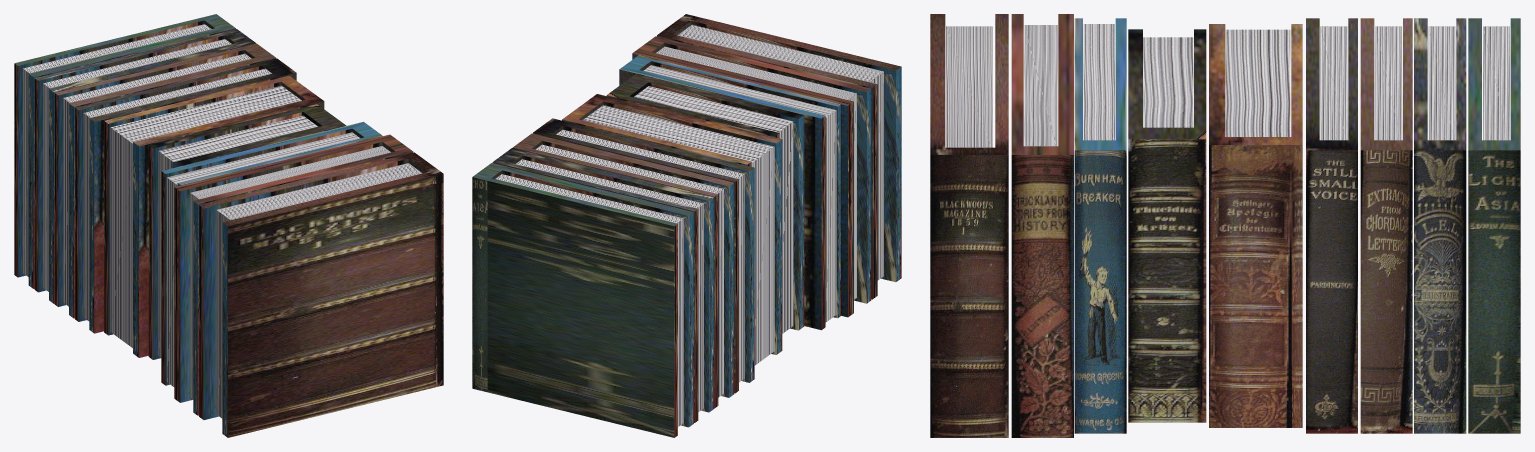
Rendered from Libros7.obj.
3 renders of one model, left to right at view 1: azimuth 30°, elevation 25°; view 2: azimuth 150°, elevation 25°; view 3: azimuth 270°, elevation 25°, orthographic. The views are drawn at different scales.
Visible parts, largest first — view 1: pCube1, pCube2, pCube11, pCube5, pCube6, pCube13, pCube17, pCube15, pCube4, pCube7, pCube3, pCube9 (+6 smaller); view 2: pCube17, pCube2, pCube1, pCube3, pCube11, pCube6, pCube15, pCube13, pCube4, pCube5, pCube10, pCube7 (+6 smaller); view 3: pCube5, pCube1, pCube4, pCube2, pCube13, pCube15, pCube17, pCube6, pCube3, pCube11, pCube7, pCube10 (+6 smaller).
Boxes of the visible parts, x1,y1,x2,y2 form: pCube1: (199, 152, 443, 437); pCube2: (174, 134, 413, 415); pCube11: (110, 85, 301, 347); pCube5: (104, 75, 324, 357); pCube6: (75, 58, 296, 333); pCube13: (54, 43, 276, 318); pCube17: (14, 14, 235, 288); pCube15: (34, 29, 256, 303); pCube4: (148, 104, 346, 359); pCube7: (216, 163, 422, 418); pCube3: (161, 121, 382, 385); pCube9: (167, 132, 359, 386); pCube17: (472, 163, 693, 437); pCube2: (632, 36, 871, 317); pCube1: (657, 14, 901, 299); pCube3: (619, 55, 840, 330); pCube11: (583, 105, 774, 365); pCube6: (533, 118, 754, 393); pCube15: (492, 148, 714, 422); pCube13: (512, 133, 734, 408); pCube4: (606, 74, 804, 330); pCube5: (562, 94, 782, 354); pCube10: (633, 86, 793, 333); pCube7: (677, 24, 883, 280); pCube5: (1209, 24, 1302, 427); pCube1: (930, 14, 1008, 437); pCube4: (1128, 29, 1206, 422); pCube2: (1011, 14, 1073, 437); pCube13: (1360, 18, 1412, 433); pCube15: (1414, 18, 1466, 433); pCube17: (1468, 18, 1520, 433); pCube6: (1306, 18, 1357, 433); pCube3: (1074, 18, 1126, 433); pCube11: (1225, 29, 1290, 136); pCube7: (946, 26, 992, 147); pCube10: (1143, 37, 1193, 127).
Bounding box in the file's own units: 0.32 × 0.3 × 0.5666.
2 materials, 2 textured.
